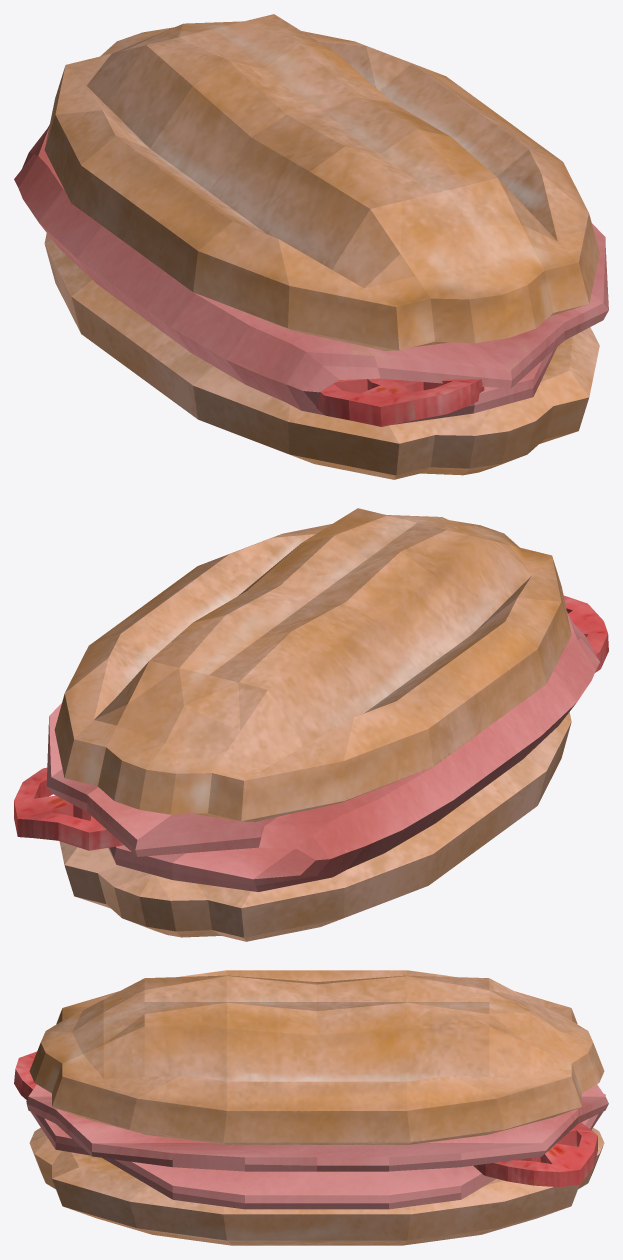
File: Torta High.fbx
3 views of the same model, one above another, from view 1: azimuth 30°, elevation 25°; view 2: azimuth 150°, elevation 25°; view 3: azimuth 270°, elevation 25° (orthographic). The views are drawn at different scales.
Visible parts, largest first — view 1: Torta V2; view 2: Torta V2; view 3: Torta V2.
Boxes of the visible parts, <box> form: Torta V2: <box>14,14,608,479</box>; Torta V2: <box>14,508,608,941</box>; Torta V2: <box>14,970,608,1245</box>.
Size of the model in its own units: 177 by 111 by 294.
